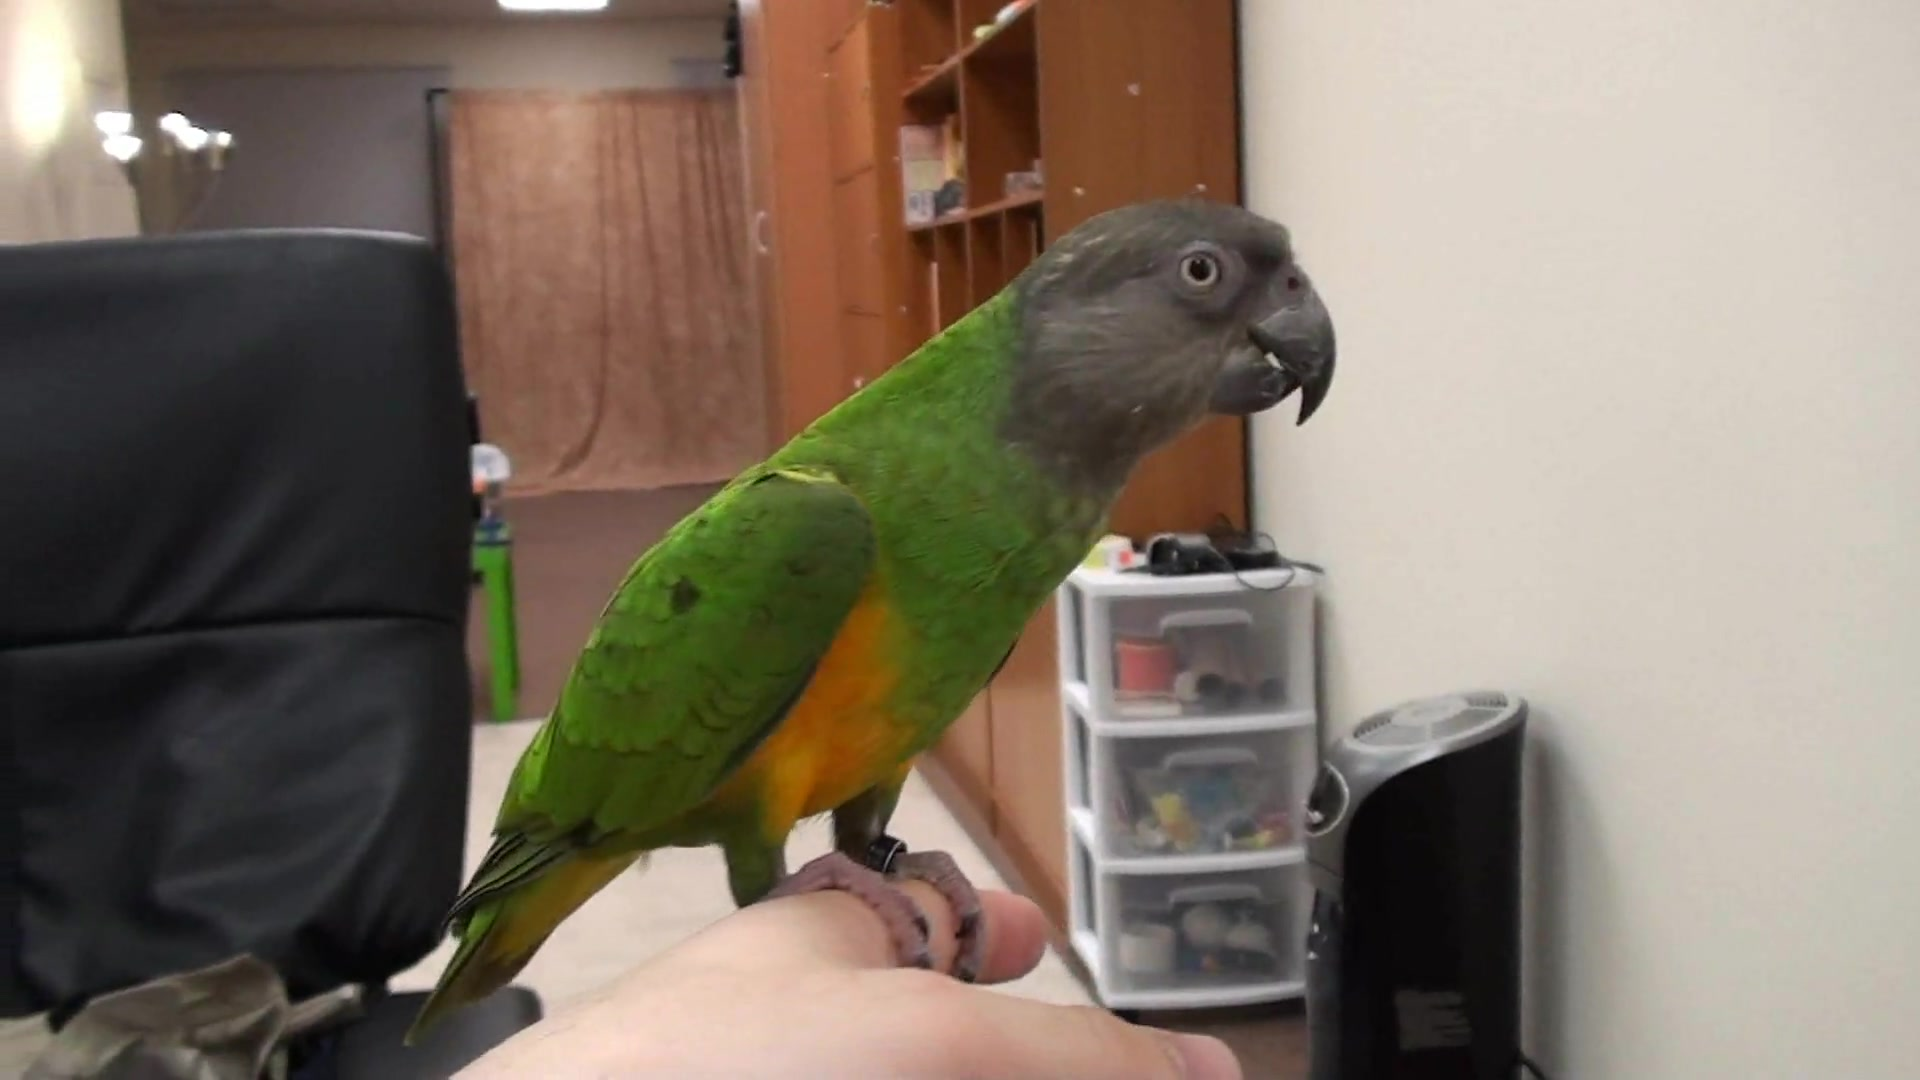bird: (406, 200, 1340, 1055)
